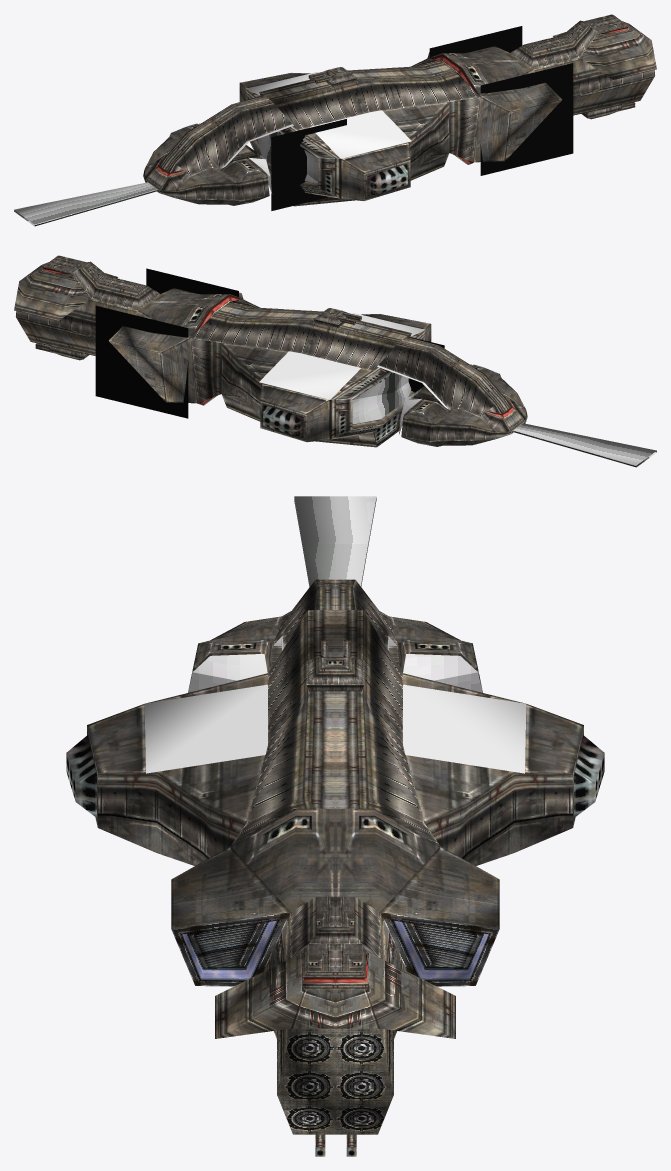
File: pvs03.obj
The picture shows the model from 3 angles, top to bottom: view 1: azimuth 30°, elevation 25°; view 2: azimuth 150°, elevation 25°; view 3: azimuth 270°, elevation 25°; orthographic projection. The views are drawn at different scales.
Visible parts, largest first — view 1: PVS03_HULL0.001, PVS03_LENS100.001, DECAL010.004, PVS03_LENS090.001, MESH010.001, PVS03_LENS110.001, PVS03_LENS080.001, WIN_SHEILD0.001, PVS03_EFFECT0; view 2: PVS03_HULL0.001, PVS03_LENS110.001, DECAL010.004, MESH010.001, PVS03_LENS080.001, PVS03_LENS100.001, WIN_SHEILD0.001, PVS03_EFFECT0; view 3: PVS03_HULL0.001, DECAL010.004, MESH010.001, PVS03_EFFECT0, THRUSTER_LIGHT0.001.
Part boxes in pixels (left/top/right/bottom): PVS03_HULL0.001: left=143, top=14, right=656, bottom=206; PVS03_LENS100.001: left=480, top=63, right=573, bottom=175; DECAL010.004: left=245, top=72, right=411, bottom=158; PVS03_LENS090.001: left=271, top=119, right=346, bottom=210; MESH010.001: left=14, top=182, right=157, bottom=226; PVS03_LENS110.001: left=429, top=26, right=522, bottom=79; PVS03_LENS080.001: left=257, top=132, right=318, bottom=183; WIN_SHEILD0.001: left=155, top=26, right=629, bottom=176; PVS03_EFFECT0: left=199, top=123, right=293, bottom=194; PVS03_HULL0.001: left=14, top=255, right=527, bottom=447; PVS03_LENS110.001: left=95, top=305, right=188, bottom=418; DECAL010.004: left=259, top=313, right=425, bottom=399; MESH010.001: left=513, top=423, right=656, bottom=467; PVS03_LENS080.001: left=352, top=373, right=411, bottom=423; PVS03_LENS100.001: left=146, top=268, right=238, bottom=318; WIN_SHEILD0.001: left=41, top=267, right=514, bottom=418; PVS03_EFFECT0: left=377, top=364, right=471, bottom=434; PVS03_HULL0.001: left=66, top=579, right=604, bottom=1134; DECAL010.004: left=144, top=684, right=526, bottom=773; MESH010.001: left=294, top=496, right=376, bottom=586; PVS03_EFFECT0: left=188, top=636, right=482, bottom=692; THRUSTER_LIGHT0.001: left=181, top=920, right=489, bottom=980.
Size of the model in its own units: 822 by 158 by 311.
Materials: 16 (13 with a texture image).
